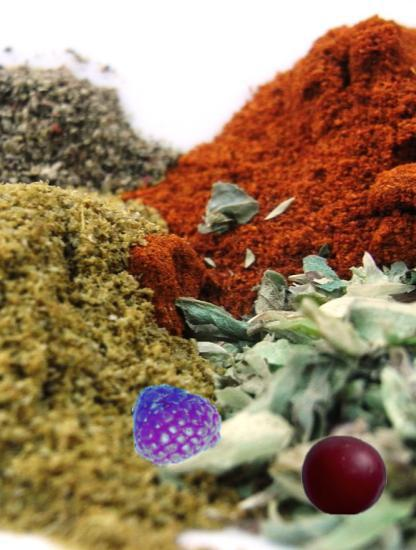Cherry: (301, 432, 388, 519)
Raspberry: (128, 382, 223, 477)
